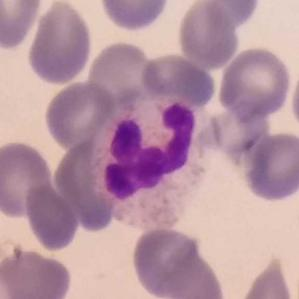Neutrophil: (90, 96, 218, 231)
RBC: (129, 225, 218, 298), (54, 137, 117, 232), (25, 0, 94, 86), (216, 44, 294, 120), (41, 79, 117, 150), (84, 39, 160, 106), (138, 50, 219, 108), (0, 138, 56, 221), (21, 179, 82, 254), (175, 0, 240, 70), (239, 129, 299, 204), (0, 244, 74, 298), (206, 102, 270, 161), (236, 253, 298, 299), (97, 0, 172, 33), (0, 0, 43, 51), (197, 0, 262, 33), (288, 62, 299, 138)
